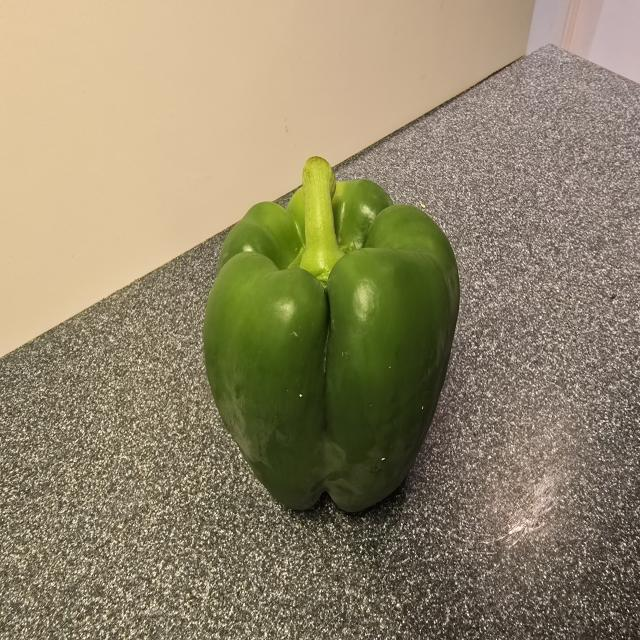Bell Pepper: (196, 145, 467, 525)
